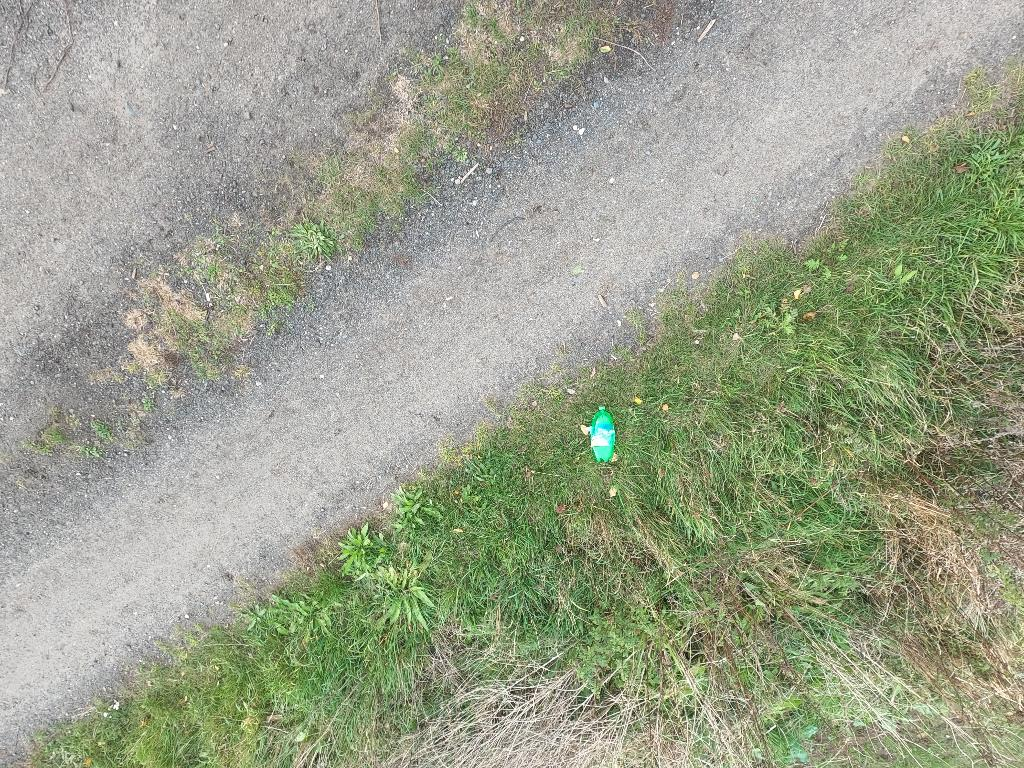garbage: (591, 404, 617, 464)
